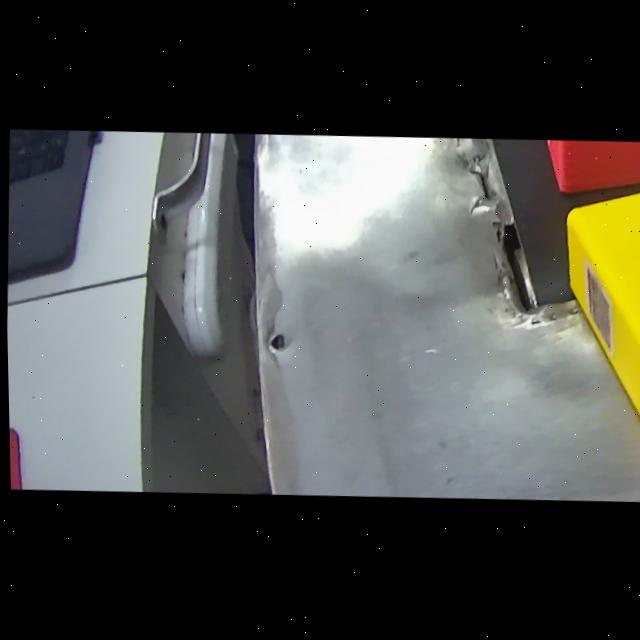redBox: (521, 140, 640, 205)
yellowBox: (553, 172, 640, 435)
